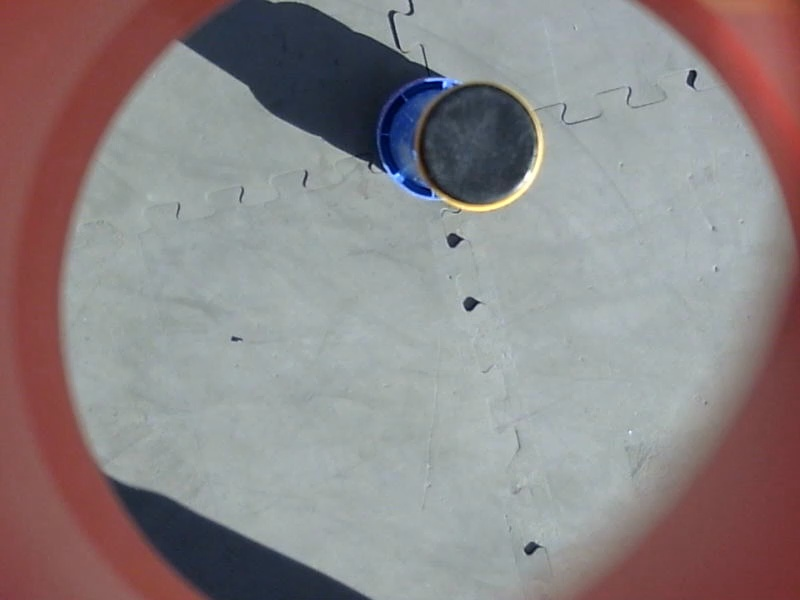tip: (409, 76, 550, 219)
